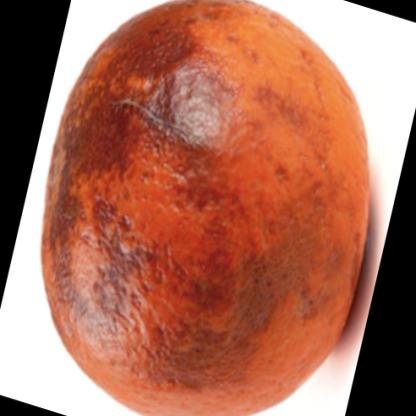rotten: (40, 1, 369, 416)
